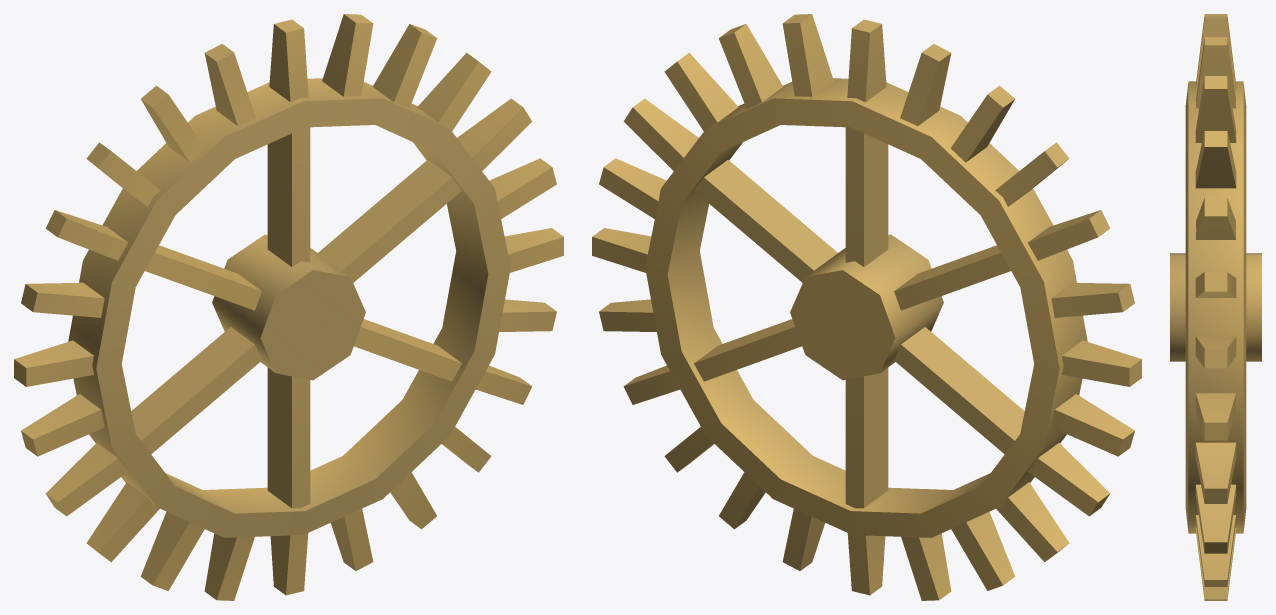
The model's file is gear_6m.glb.
The picture shows the model from 3 angles, left to right: view 1: azimuth 30°, elevation 25°; view 2: azimuth 150°, elevation 25°; view 3: azimuth 270°, elevation 25°; orthographic projection. The views are drawn at different scales.
Visible parts, largest first — view 1: Gear6m; view 2: Gear6m; view 3: Gear6m.
Boxes of the visible parts, left/top/right/bottom form: Gear6m: left=14, top=14, right=563, bottom=600; Gear6m: left=592, top=14, right=1141, bottom=600; Gear6m: left=1170, top=14, right=1261, bottom=600.
Bounding box in the file's own units: 3.2 × 3.2 × 0.5.
Materials: 1 (1 with a texture image).
